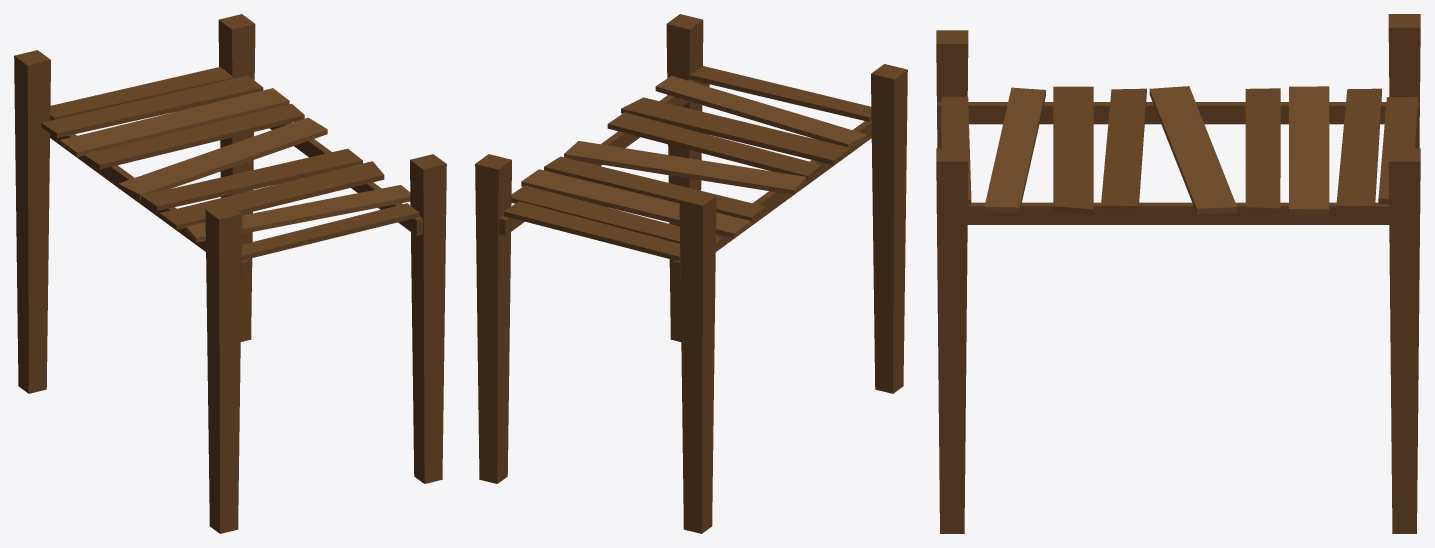
Rendered from Pier_01.fbx.
3 renders of one model, left to right at view 1: azimuth 30°, elevation 25°; view 2: azimuth 150°, elevation 25°; view 3: azimuth 270°, elevation 25°, orthographic. The views are drawn at different scales.
Visible parts, largest first — view 1: Pier_01; view 2: Pier_01; view 3: Pier_01.
Part boxes in pixels (box(x1,y1,x2,y2)): Pier_01: box(14, 14, 446, 533); Pier_01: box(475, 14, 907, 533); Pier_01: box(936, 14, 1420, 533).
Bounding box in the file's own units: 189 × 262 × 295.
